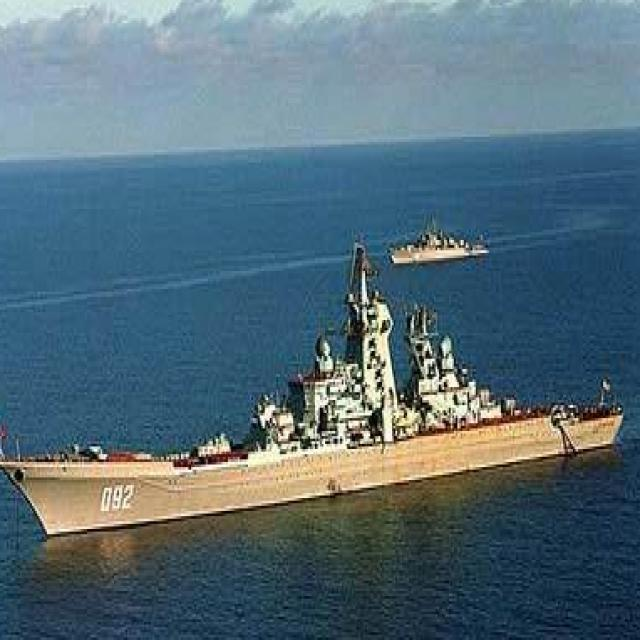navalvessels: (0, 258, 632, 560), (359, 202, 505, 298)
